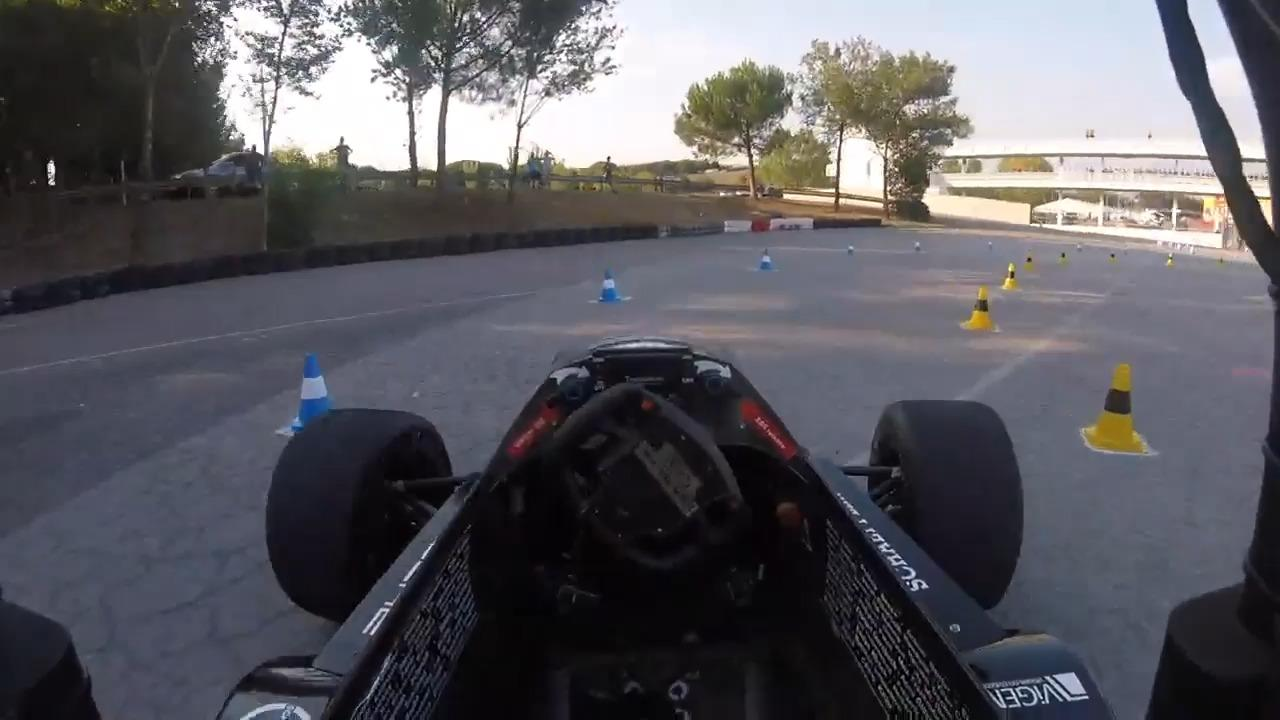blue_cone: (272, 349, 346, 439), (591, 263, 636, 318), (746, 244, 784, 278)
yellow_cone: (1082, 353, 1155, 461), (964, 281, 1001, 334), (999, 252, 1024, 291)
